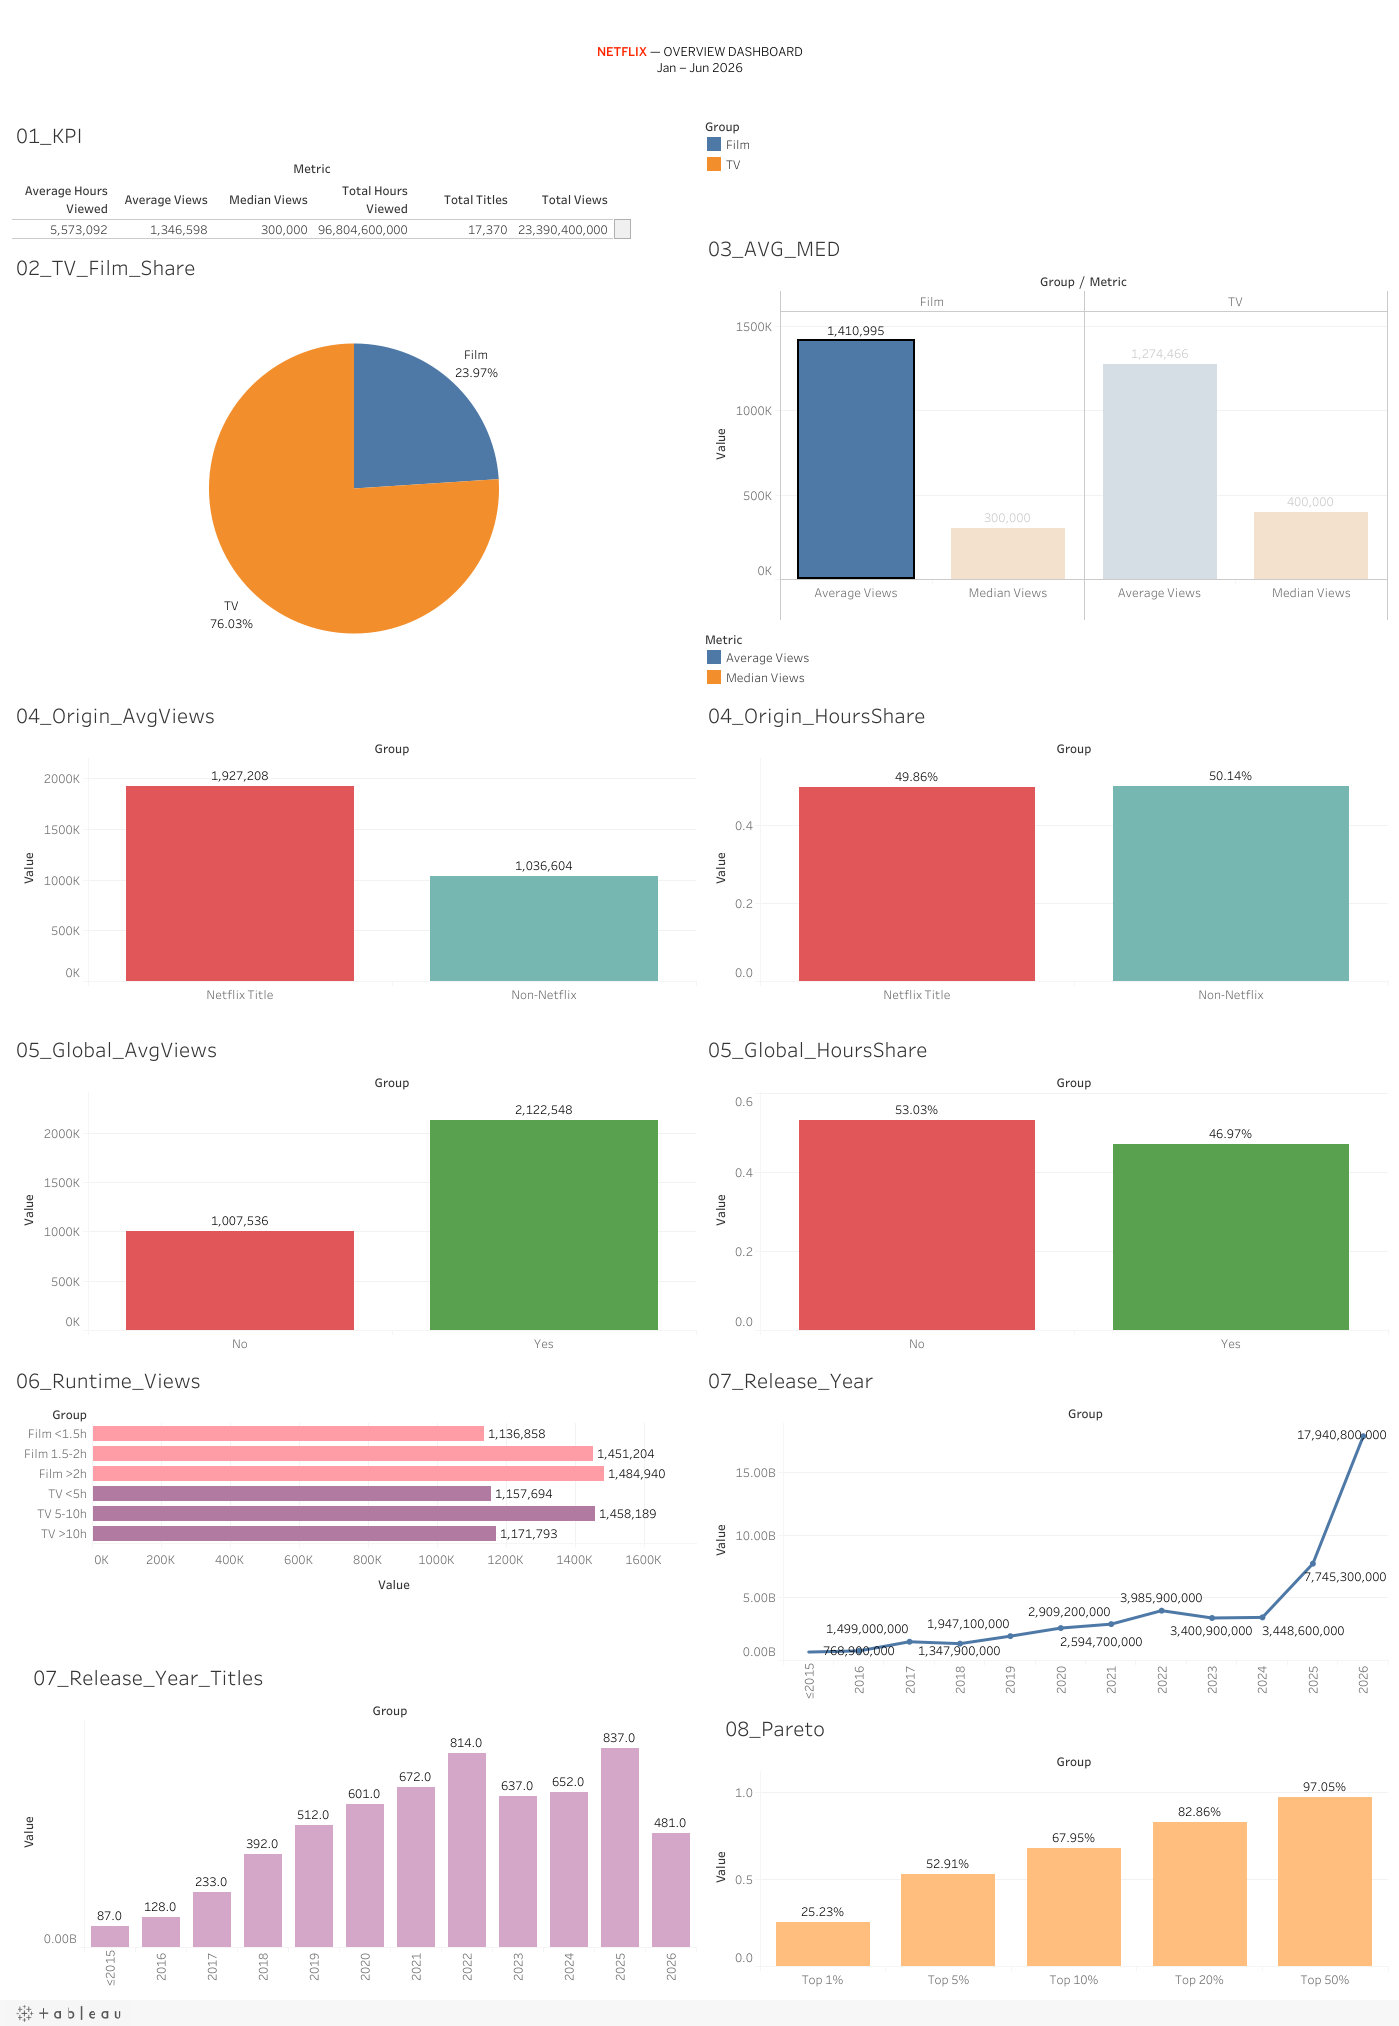

This screenshot's page, from the dashboard's own definition file:
{"tool":"tableau","page":{"name":"Dashboard_Overview","canvas":[1400,2000],"ordinal":1},"visuals":[{"type":"text","box":[8,8,1384,103]},{"type":"worksheet","title":"01_KPI","mark":"Text","cols":["Metric"],"box":[8,111,692,132]},{"type":"legend","title":"02_TV_Film_Share","param":"[federated.072s7v713msraj0zilz6r0l75cnf].[none:Group:nk]","box":[700,111,692,66]},{"type":"worksheet","title":"03_AVG_MED","mark":"Bar","rows":["Value"],"cols":["Group","Metric"],"box":[700,224,692,401]},{"type":"worksheet","title":"02_TV_Film_Share","mark":"Pie","box":[8,243,692,448]},{"type":"legend","title":"03_AVG_MED","param":"[federated.072s7v713msraj0zilz6r0l75cnf].[none:Metric:nk]","box":[700,625,692,66]},{"type":"worksheet","title":"04_Origin_AvgViews","mark":"Bar","rows":["Value"],"cols":["Group"],"box":[8,691,692,334]},{"type":"worksheet","title":"04_Origin_HoursShare","mark":"Bar","rows":["Value"],"cols":["Group"],"box":[700,691,692,334]},{"type":"worksheet","title":"05_Global_AvgViews","mark":"Bar","rows":["Value"],"cols":["Group"],"box":[8,1025,692,331]},{"type":"worksheet","title":"05_Global_HoursShare","mark":"Bar","rows":["Value"],"cols":["Group"],"box":[700,1025,692,331]},{"type":"worksheet","title":"06_Runtime_Views","mark":"Automatic","rows":["Group"],"cols":["Value"],"box":[8,1356,692,297]},{"type":"worksheet","title":"07_Release_Year","mark":"Line","rows":["Value"],"cols":["Group"],"box":[700,1356,692,348]},{"type":"worksheet","title":"    07_Release_Year_Titles","mark":"Bar","rows":["Value"],"cols":["Group"],"box":[8,1653,692,339]},{"type":"worksheet","title":"    08_Pareto","mark":"Bar","rows":["Value"],"cols":["Group"],"box":[700,1704,692,288]}]}

Visuals, with their boxes in screenshot pixels (x1, y1, x2, y2), scaled from the page's 1400x2000 canvas onto the 1399x2026 screenshot:
text: 8 8 1391 112
"01_KPI" worksheet (Text marks): 8 112 700 246
"02_TV_Film_Share" legend: 700 112 1391 179
"03_AVG_MED" worksheet (Bar marks): 700 227 1391 633
"02_TV_Film_Share" worksheet (Pie marks): 8 246 700 700
"03_AVG_MED" legend: 700 633 1391 700
"04_Origin_AvgViews" worksheet (Bar marks): 8 700 700 1038
"04_Origin_HoursShare" worksheet (Bar marks): 700 700 1391 1038
"05_Global_AvgViews" worksheet (Bar marks): 8 1038 700 1374
"05_Global_HoursShare" worksheet (Bar marks): 700 1038 1391 1374
"06_Runtime_Views" worksheet: 8 1374 700 1674
"07_Release_Year" worksheet (Line marks): 700 1374 1391 1726
"    07_Release_Year_Titles" worksheet (Bar marks): 8 1674 700 2018
"    08_Pareto" worksheet (Bar marks): 700 1726 1391 2018
